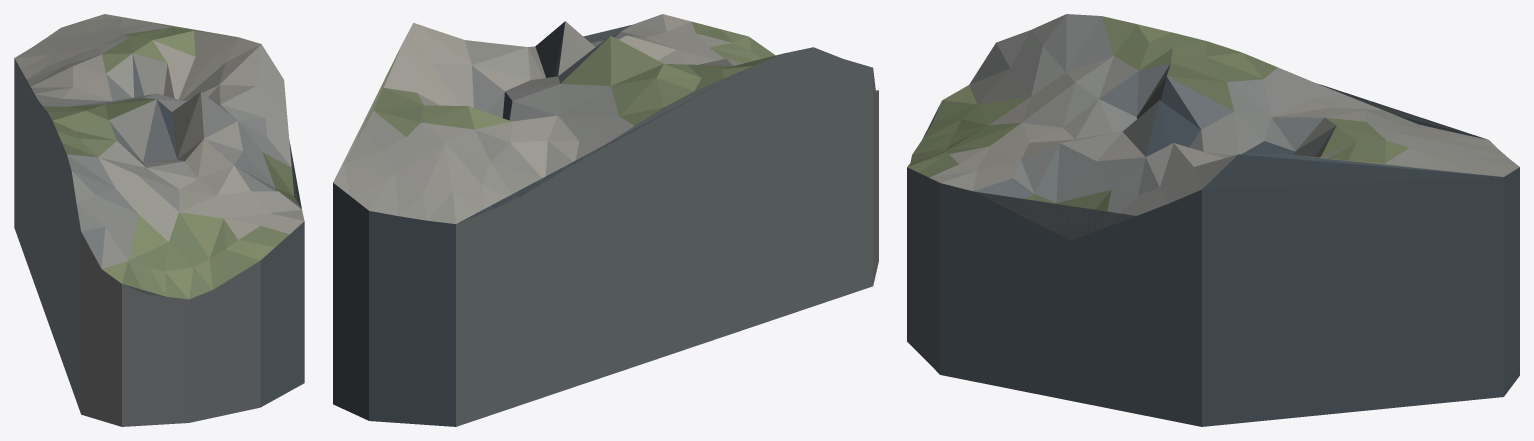
The model's file is cliff_front_columns.glb.
3 renders of one model, left to right at view 1: azimuth 30°, elevation 25°; view 2: azimuth 150°, elevation 25°; view 3: azimuth 270°, elevation 25°, orthographic. The views are drawn at different scales.
Visible parts, largest first — view 1: cliff_front_columns; view 2: cliff_front_columns; view 3: cliff_front_columns.
Part boxes in pixels (x1,y1,x2,y2): cliff_front_columns: (14,14,304,426); cliff_front_columns: (333,14,878,426); cliff_front_columns: (907,14,1519,426).
Size of the model in its own units: 89.68 by 67.01 by 139.
